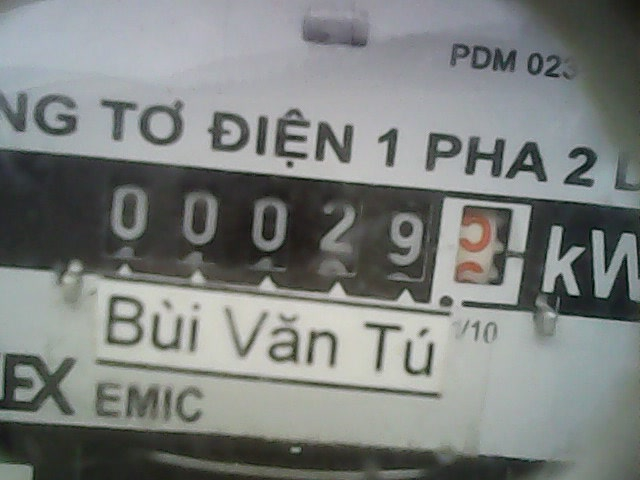phy_plate: (95, 157, 546, 321)
